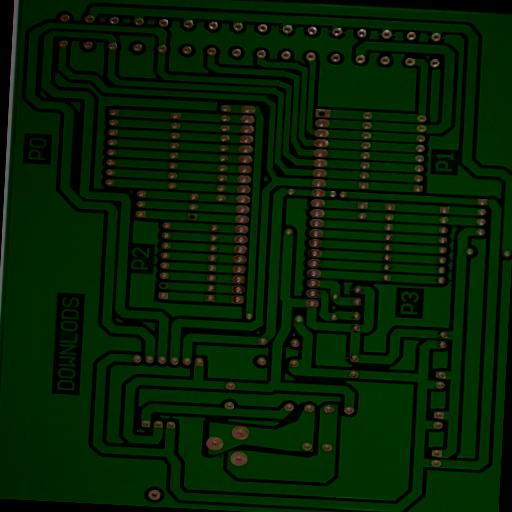missing_hole: (312, 108, 329, 118), (184, 212, 198, 223), (156, 281, 168, 290)
